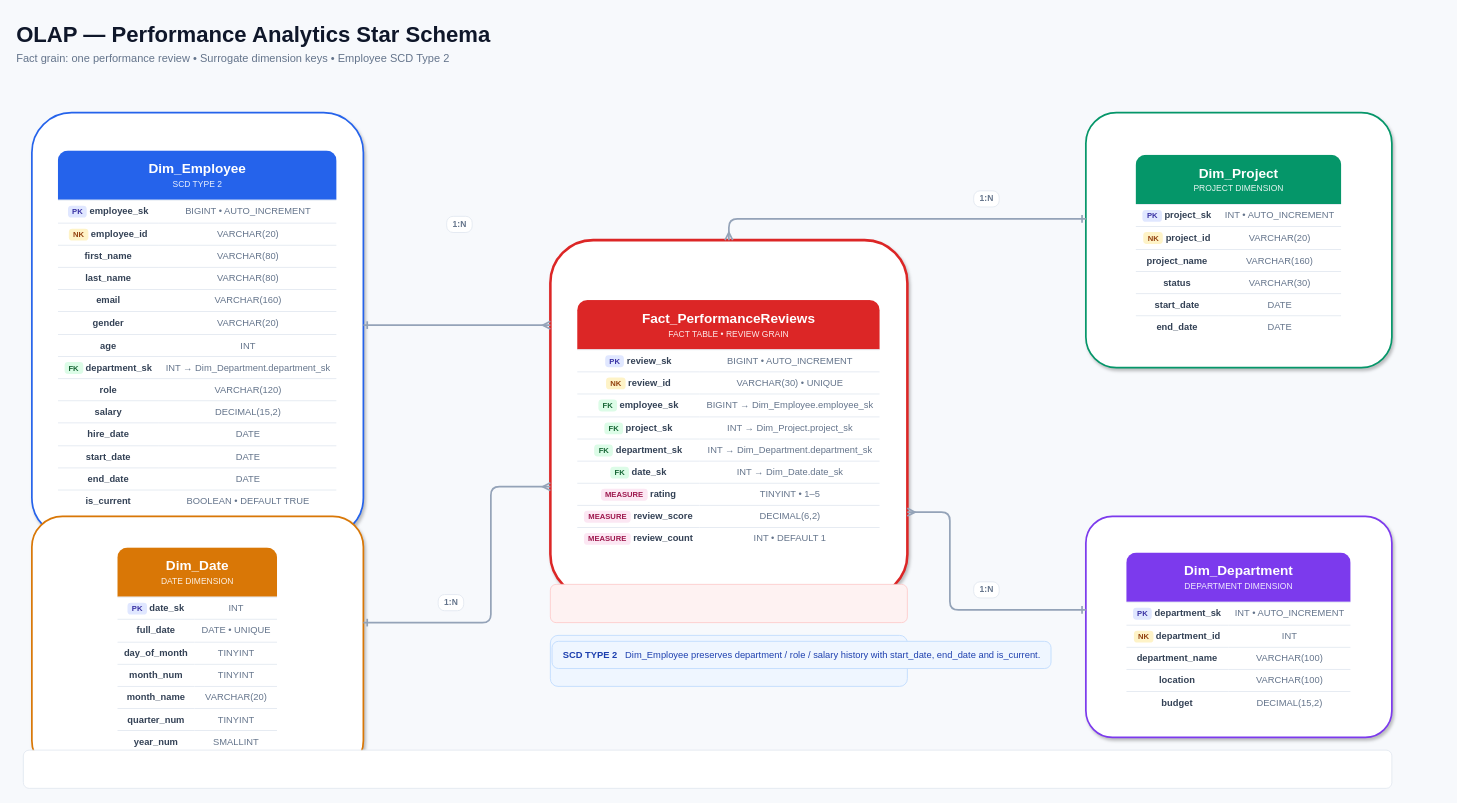
The diagram is 1457 pixels wide and 803 high, and some of its shapes have lost their labels. The centre of each missing label's shape, as x and y in pixels:
"FACT GRAIN One row represents one employee performance review." belongs at (728,603).
"Key: PK Surrogate primary key FK Fact foreign key MEASURE Numeric fact measure" belongs at (707,768).
